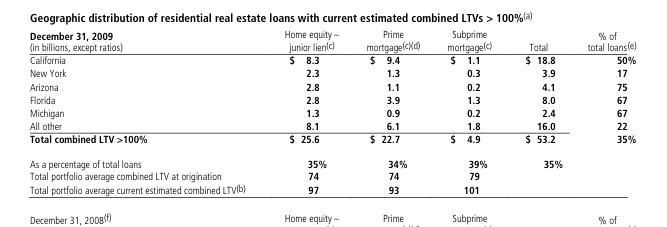table: (28, 28, 635, 195)
table column: (28, 28, 264, 195), (264, 28, 351, 195), (351, 28, 432, 195), (432, 28, 507, 195), (507, 28, 574, 195), (574, 28, 635, 195)
table column header: (28, 28, 635, 53)
table row: (28, 28, 635, 53), (28, 132, 635, 151), (28, 151, 635, 170), (28, 66, 635, 80), (28, 53, 635, 66), (28, 80, 635, 93), (28, 93, 635, 106), (28, 106, 635, 119), (28, 119, 635, 132), (28, 182, 635, 195), (28, 170, 635, 182)
